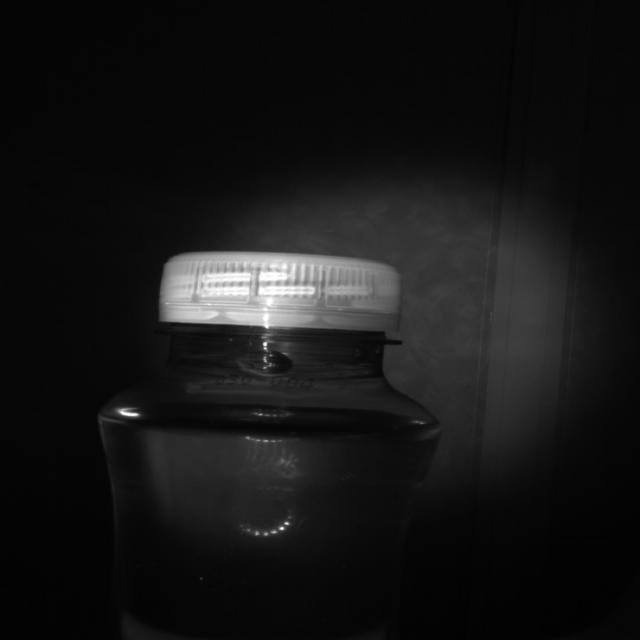Good: (156, 250, 403, 336)
